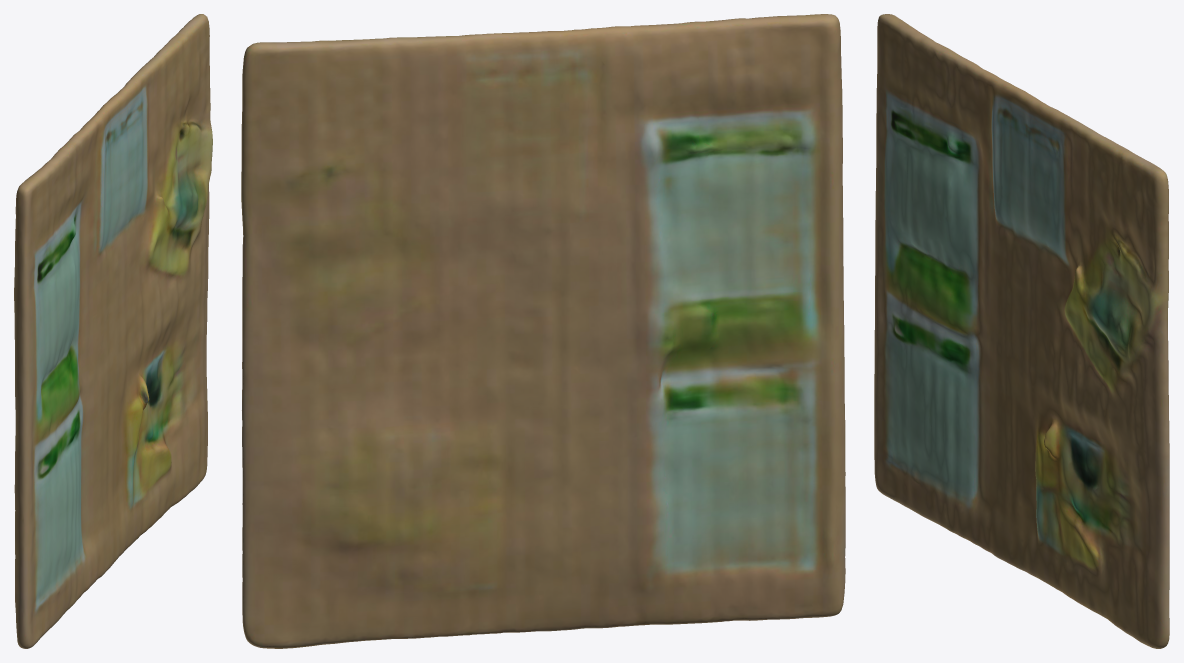
Rendered from c5e3ab6878d8_wall_mounted_pin_bo.fbx.
3 views of the same model, side by side, from view 1: azimuth 30°, elevation 25°; view 2: azimuth 150°, elevation 25°; view 3: azimuth 270°, elevation 25° (orthographic). The views are drawn at different scales.
Parts seen in each view (by area): view 1: high_poly; view 2: high_poly; view 3: high_poly.
Boxes of the visible parts, <box> form: high_poly: <box>14,14,212,648</box>; high_poly: <box>241,14,845,648</box>; high_poly: <box>874,14,1169,648</box>.
Bounding box in the file's own units: 73.29 × 100 × 55.53.
